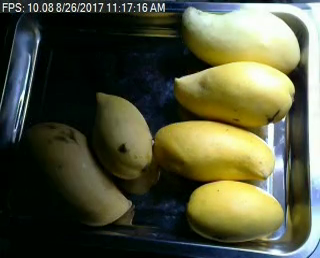Mango: (31, 119, 134, 228), (181, 4, 301, 75), (174, 59, 295, 126), (155, 121, 274, 182), (187, 180, 284, 240), (94, 90, 154, 177)
